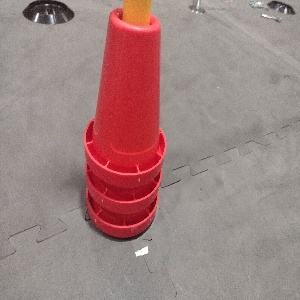Red_3: (82, 7, 167, 240)
